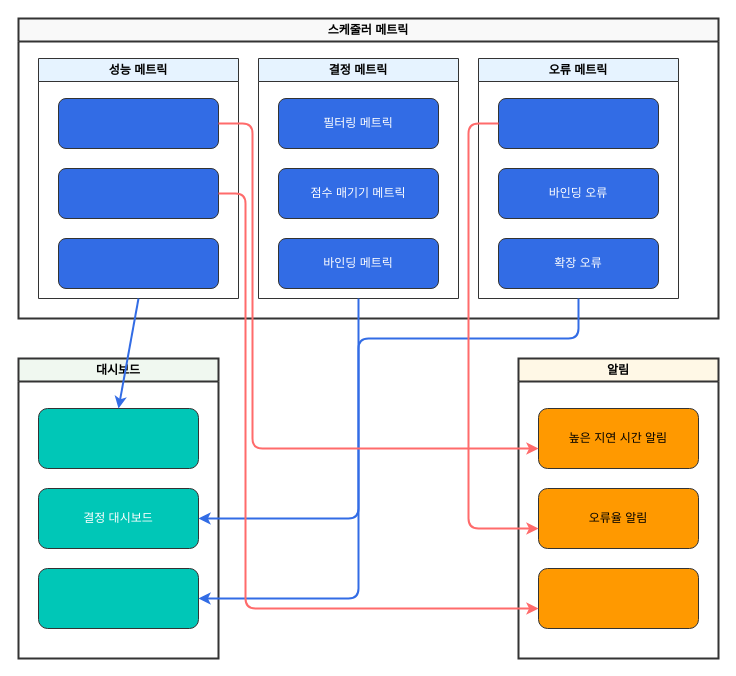
The diagram is 736 pixels wide and 676 high, and some of its shapes have lost their labels. Each missing label, with the centre of its shape:
"성능 대시보드" belongs at (x=118, y=438).
"스케줄링 오류" belongs at (x=578, y=123).
"스케줄링 지연 시간" belongs at (x=138, y=123).
"오류 대시보드" belongs at (x=118, y=598).
"처리량" belongs at (x=138, y=263).
"큐 길이" belongs at (x=138, y=193).
"큐 백로그 알림" belongs at (x=618, y=598).
